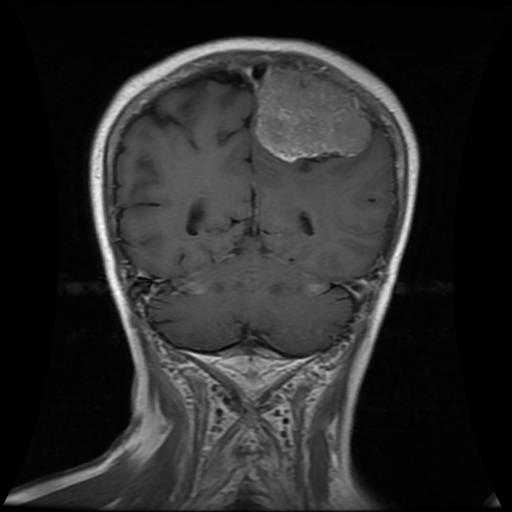Menigiomia_tumour: (255, 66, 372, 163)
